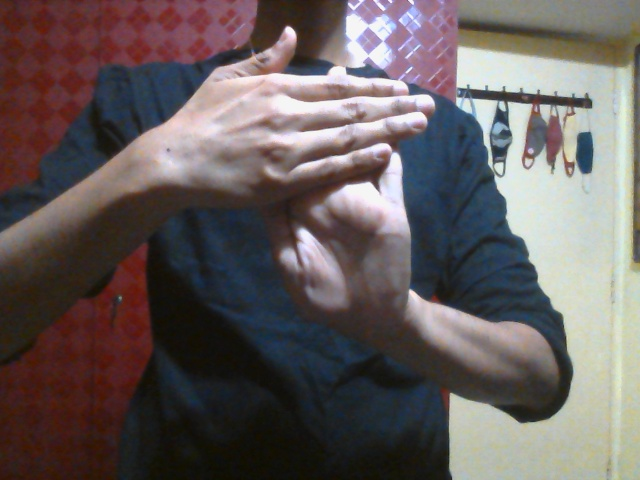H: (173, 27, 434, 321)
